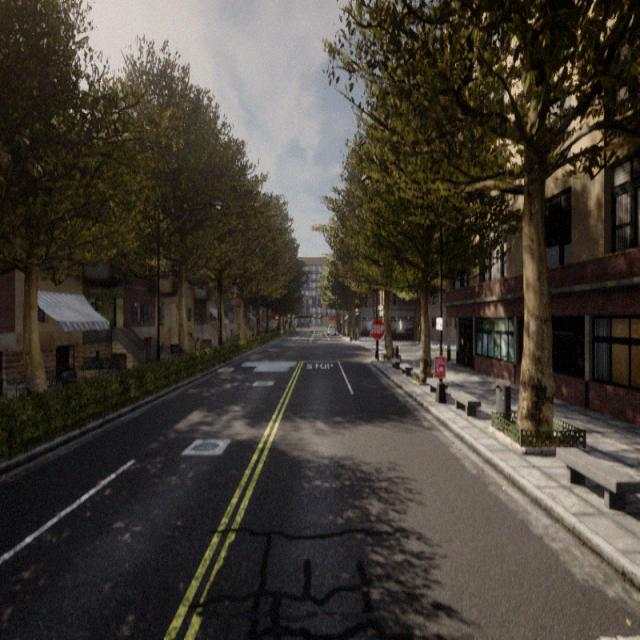stop sign: (368, 314, 387, 362), (368, 317, 386, 340)
